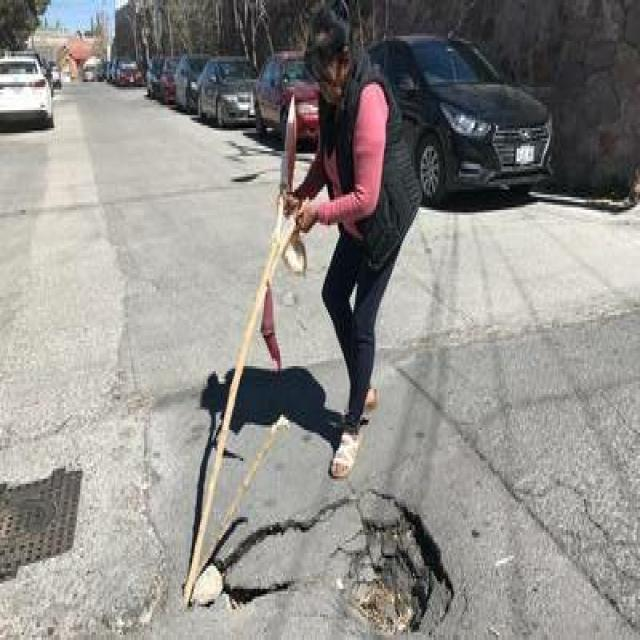pothole: (135, 443, 498, 640)
